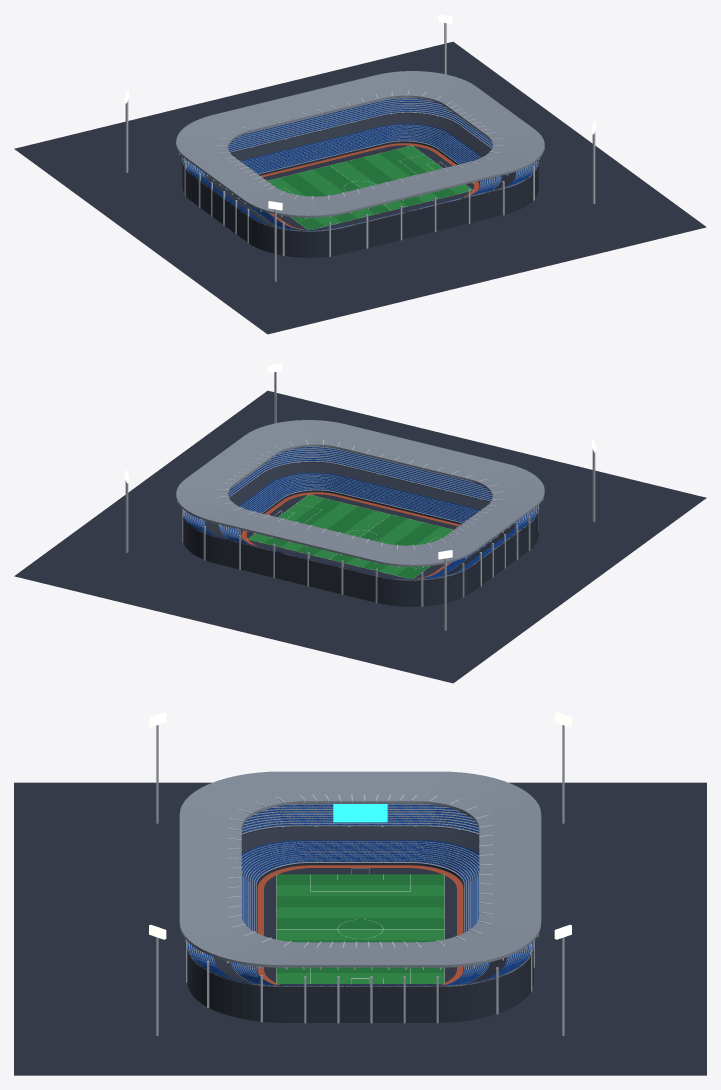
The model's file is stadium.glb.
The picture shows the model from 3 angles, top to bottom: view 1: azimuth 30°, elevation 25°; view 2: azimuth 150°, elevation 25°; view 3: azimuth 270°, elevation 25°; orthographic projection. The views are drawn at different scales.
Visible parts, largest first — view 1: Ground, Roof, Walls, Seats_lower, Seats_upper, Terrace_upper, Pitch_1, Terrace_lower, Pitch_0, RoofBeams, Floodlight_Masts, Track; view 2: Ground, Roof, Walls, Seats_lower, Seats_upper, Terrace_upper, Pitch_1, Terrace_lower, Pitch_0, RoofBeams, Floodlight_Masts, Track; view 3: Ground, Roof, Walls, Seats_lower, Pitch_1, Pitch_0, Terrace_lower, Seats_upper, Terrace_upper, RoofBeams, Track, Floodlight_Masts (+2 smaller).
Part boxes in pixels (bbox=[...]): Ground: bbox=[14, 41, 706, 334]; Roof: bbox=[176, 71, 544, 217]; Walls: bbox=[182, 112, 538, 257]; Seats_lower: bbox=[223, 123, 501, 229]; Seats_upper: bbox=[183, 97, 537, 230]; Terrace_upper: bbox=[182, 97, 538, 231]; Pitch_1: bbox=[267, 145, 472, 226]; Terrace_lower: bbox=[222, 124, 501, 226]; Pitch_0: bbox=[280, 149, 456, 229]; RoofBeams: bbox=[176, 90, 544, 256]; Floodlight_Masts: bbox=[125, 23, 595, 281]; Track: bbox=[260, 143, 479, 229]; Ground: bbox=[14, 390, 706, 683]; Roof: bbox=[176, 420, 544, 566]; Walls: bbox=[183, 461, 538, 606]; Seats_lower: bbox=[219, 472, 495, 578]; Seats_upper: bbox=[183, 446, 537, 579]; Terrace_upper: bbox=[183, 446, 538, 580]; Pitch_1: bbox=[248, 494, 453, 575]; Terrace_lower: bbox=[219, 473, 498, 576]; Pitch_0: bbox=[264, 498, 440, 578]; RoofBeams: bbox=[177, 439, 543, 606]; Floodlight_Masts: bbox=[125, 372, 595, 630]; Track: bbox=[241, 492, 459, 578]; Ground: bbox=[14, 782, 706, 1075]; Roof: bbox=[179, 771, 541, 967]; Walls: bbox=[187, 826, 533, 1022]; Seats_lower: bbox=[232, 840, 488, 984]; Pitch_1: bbox=[276, 885, 444, 983]; Pitch_0: bbox=[276, 874, 444, 972]; Terrace_lower: bbox=[231, 841, 489, 982]; Seats_upper: bbox=[187, 804, 533, 985]; Terrace_upper: bbox=[187, 804, 533, 986]; RoofBeams: bbox=[179, 794, 538, 1023]; Track: bbox=[257, 865, 463, 984]; Floodlight_Masts: bbox=[156, 725, 564, 1035].
Size of the model in its own units: 280 by 48 by 280.
